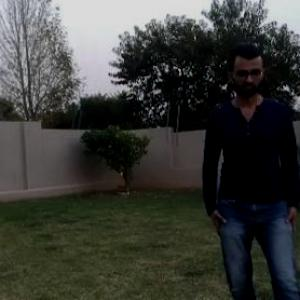follow: (195, 4, 300, 299)
